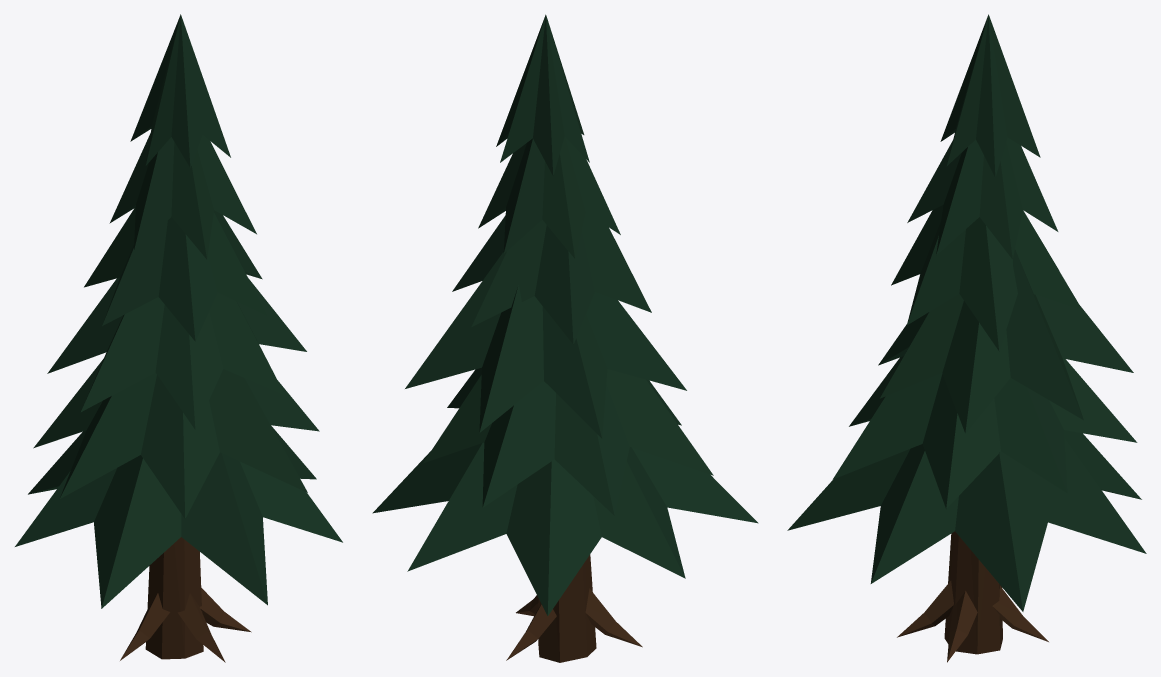
File: pino_b.fbx
3 views of the same model, side by side, from view 1: azimuth 30°, elevation 25°; view 2: azimuth 150°, elevation 25°; view 3: azimuth 270°, elevation 25° (orthographic).
Visible parts, largest first — view 1: pino_b; view 2: pino_b; view 3: pino_b.
Boxes of the visible parts, x1,y1,x2,y2 form: pino_b: (15,14,342,662); pino_b: (372,14,758,662); pino_b: (787,14,1146,662).
Bounding box in the file's own units: 6.56 × 12.88 × 6.61.
